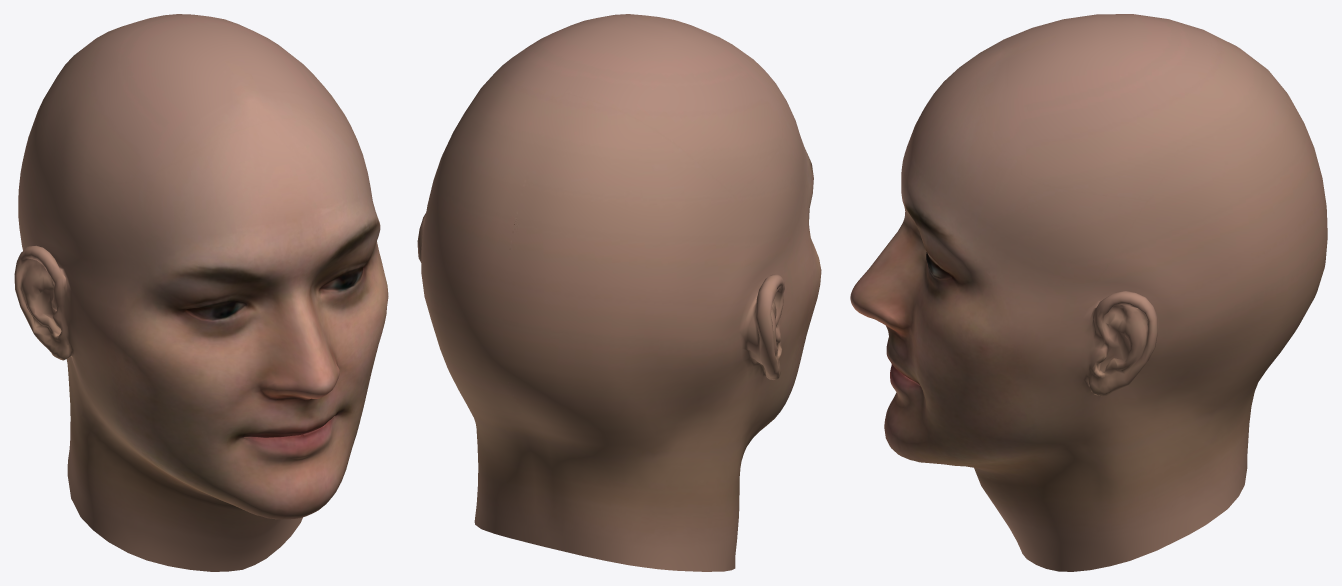
The picture shows the model from 3 angles, left to right: view 1: azimuth 30°, elevation 25°; view 2: azimuth 150°, elevation 25°; view 3: azimuth 270°, elevation 25°; orthographic projection. The views are drawn at different scales.
Parts seen in each view (by area): view 1: HeadHires; view 2: HeadHires; view 3: HeadHires.
Boxes of the visible parts, bbox=[...] form: HeadHires: bbox=[14, 14, 388, 571]; HeadHires: bbox=[417, 14, 821, 571]; HeadHires: bbox=[850, 14, 1327, 571].
Bounding box in the file's own units: 193 × 283 × 236.
